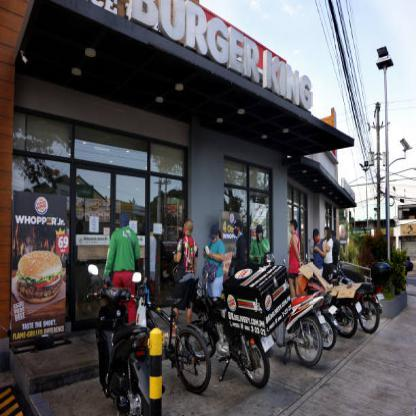Motorcycle: (74, 258, 152, 415), (177, 272, 266, 405)
